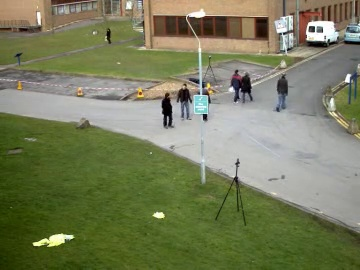person: (178, 83, 194, 120), (159, 93, 174, 129), (160, 92, 173, 128)
